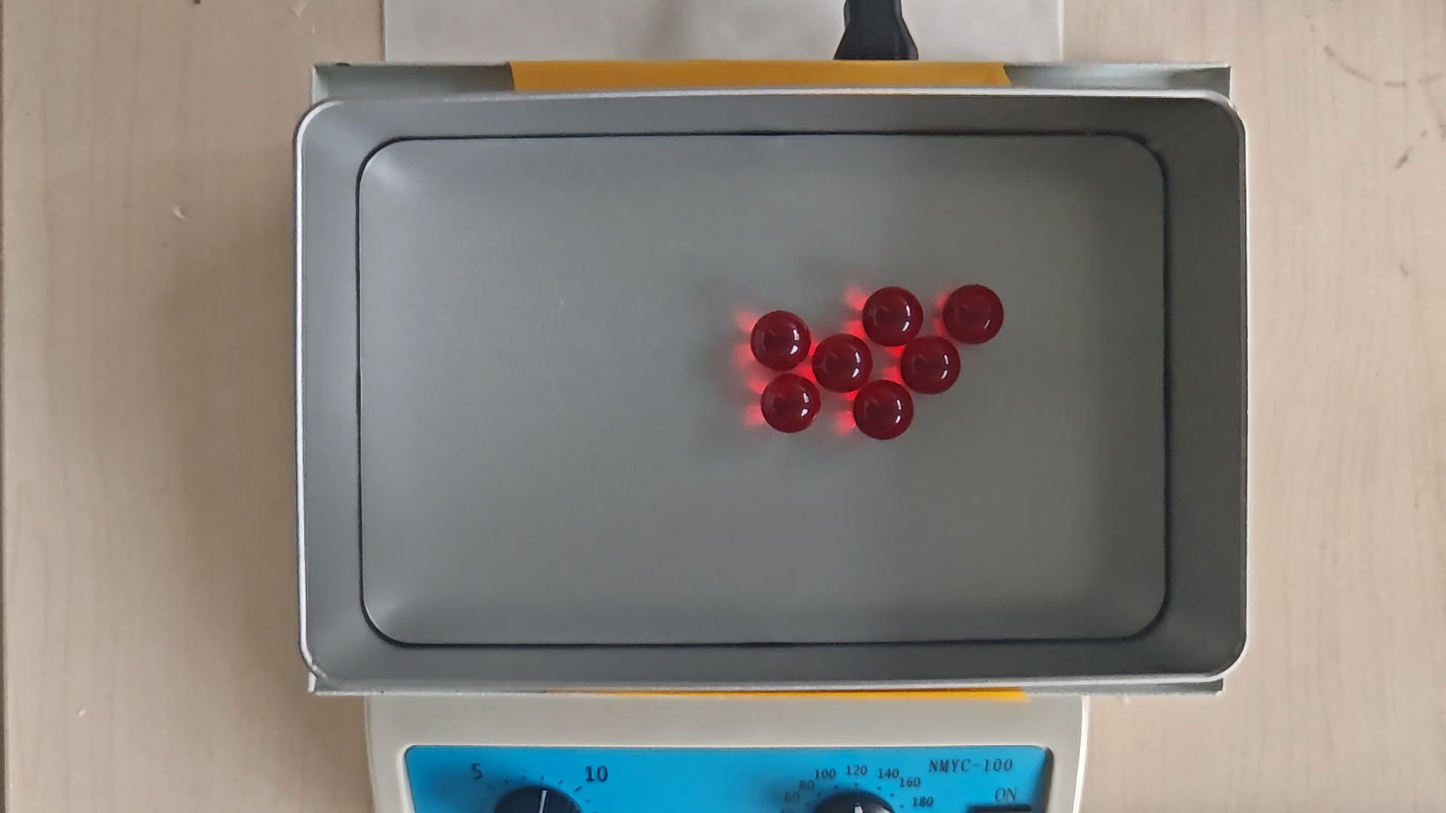ball: (853, 380, 914, 441), (762, 373, 821, 436), (901, 334, 960, 394), (944, 284, 1004, 343), (752, 310, 810, 371), (865, 287, 923, 347), (815, 334, 871, 391)
container: (355, 130, 1171, 644)
